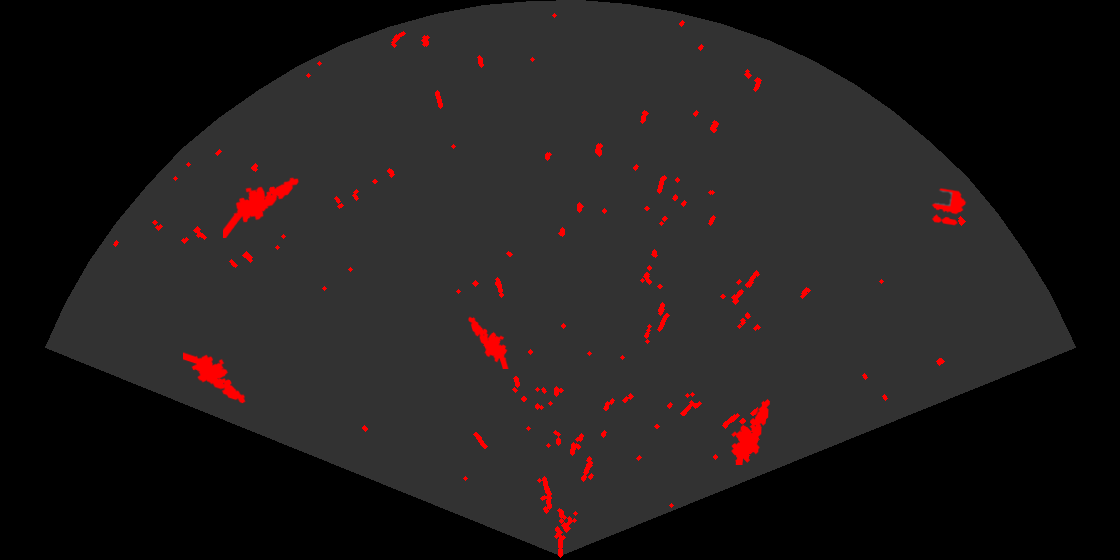ball: (930, 186, 968, 227)
frogman: (223, 176, 300, 238), (183, 351, 247, 405), (730, 397, 772, 465), (467, 315, 510, 369)
